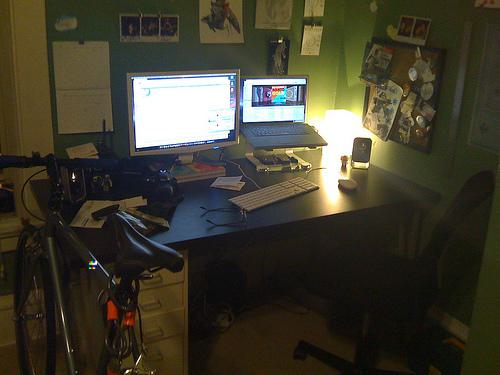car: (1, 155, 186, 375)
chair: (293, 171, 498, 375)
tvmonitor: (127, 70, 242, 166)
